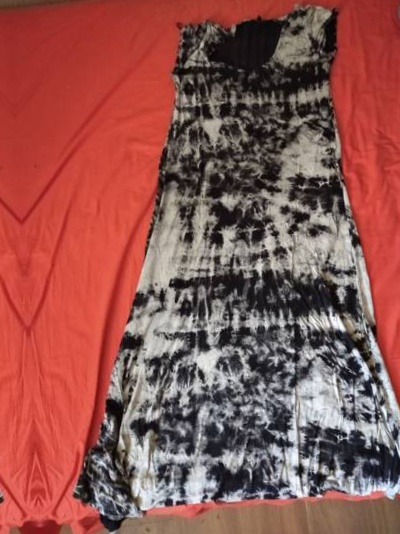Dress: (39, 0, 400, 529), (0, 2, 8, 534)
